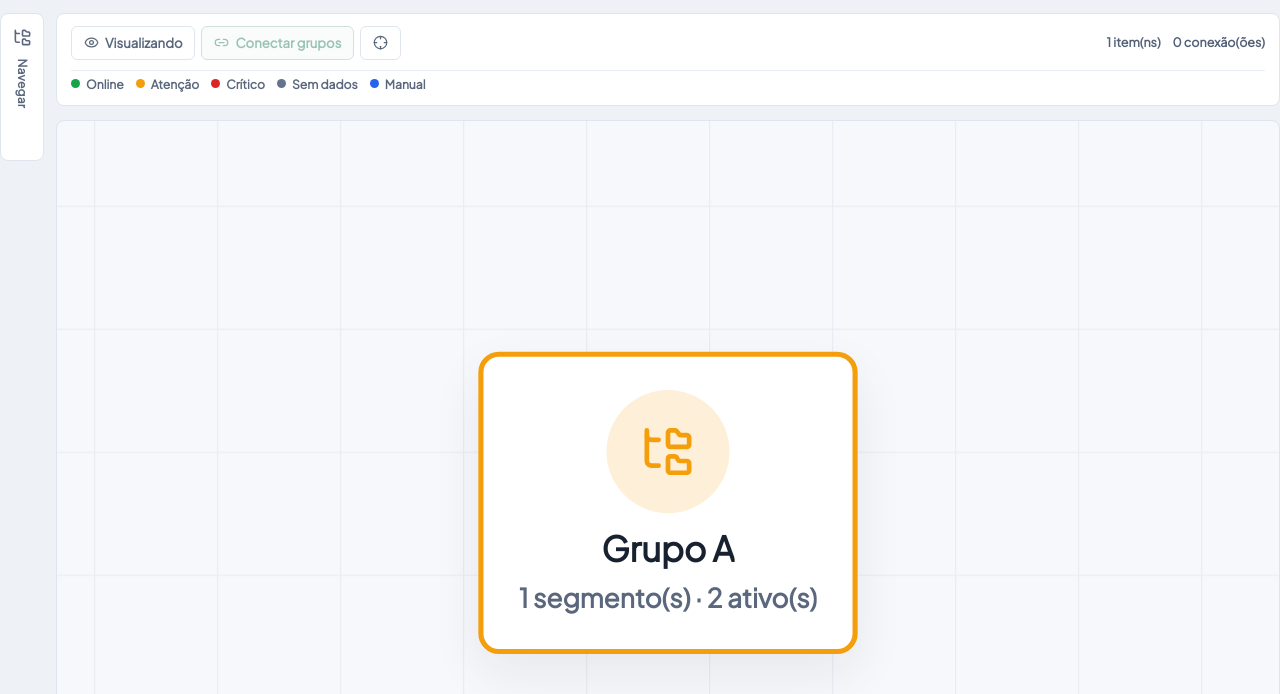
Scenario: InventoryNetworkTopologyView › cria e desenha linha entre itens automáticos usando somente IDs reais
Step 1. Press Enter in the button "Grupo A, ver grupo", box [478,352,858,654]
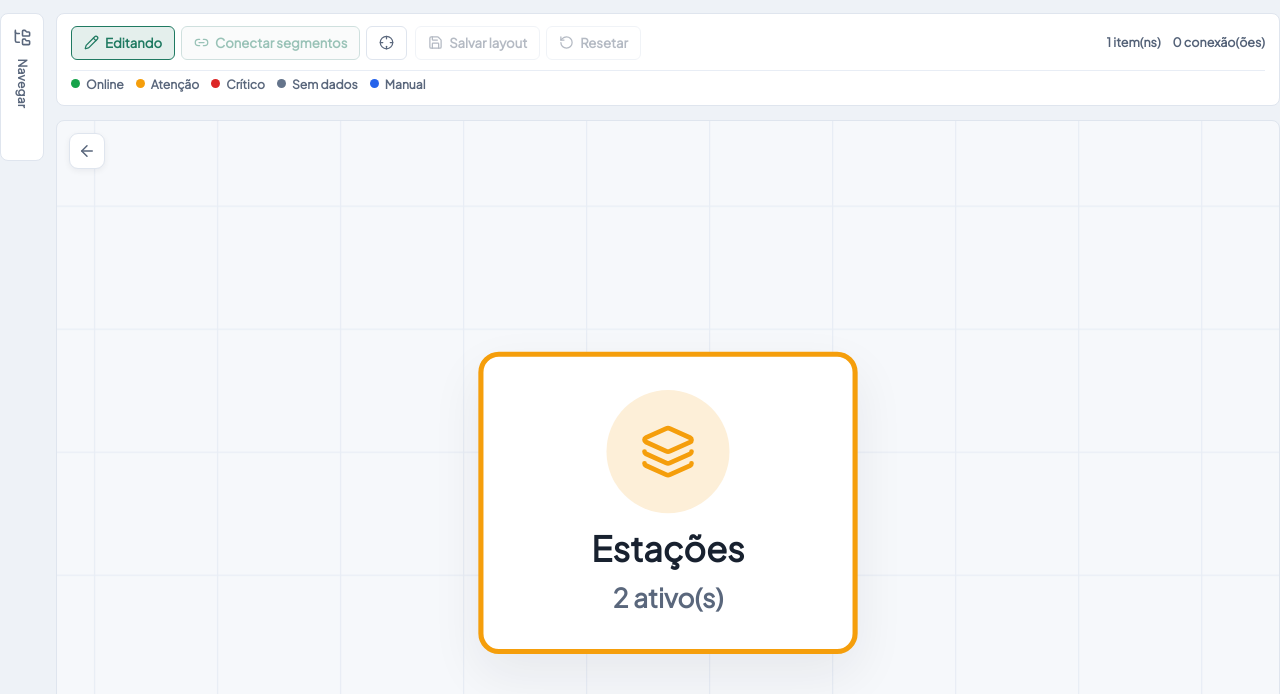
Step 2. Press Enter in the button "Estações, ver segmento", box [478,352,858,654]
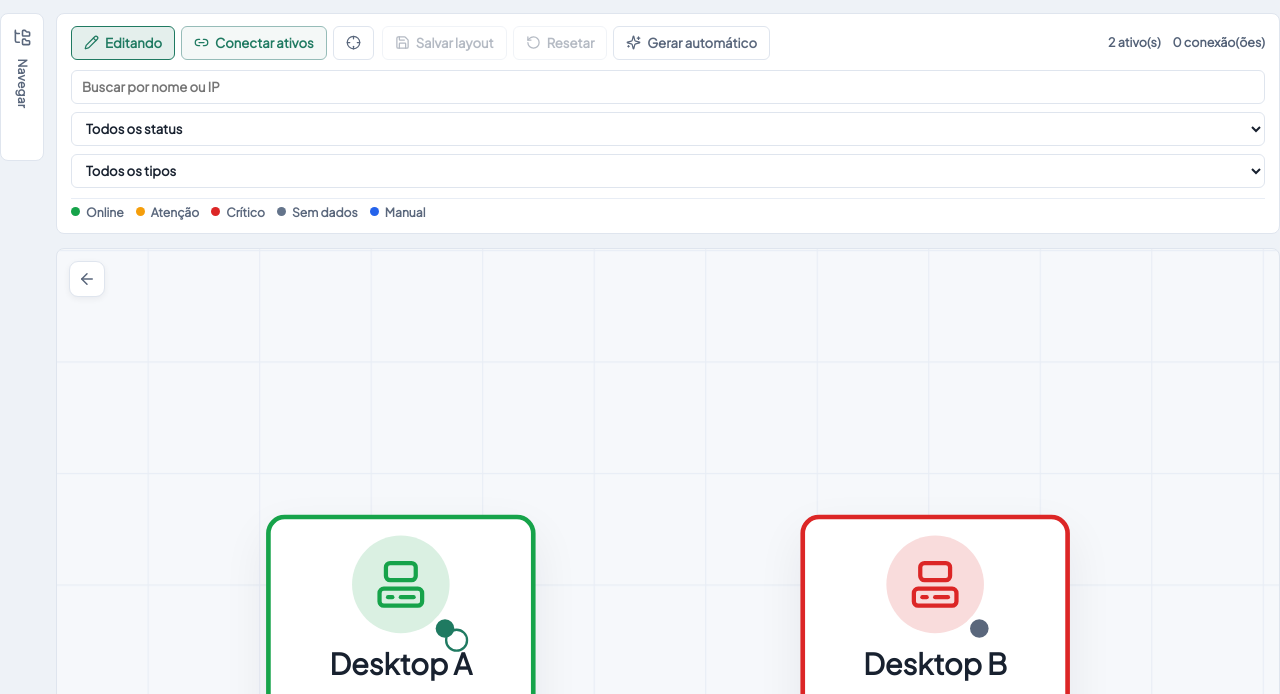
Step 3. Click the button "Conectar ativos" → (254, 43), box [181,26,327,60]
(page scrolled)
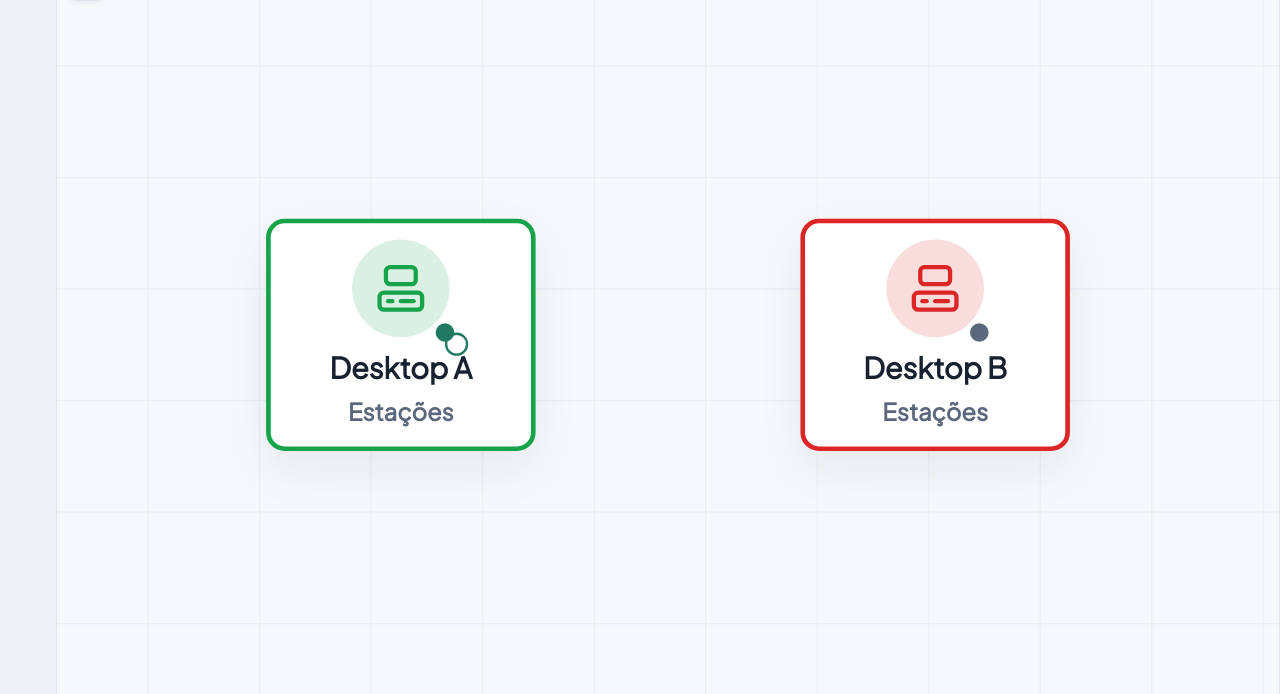
Step 4. Press Enter in the button "Desktop A, ver ativo", box [266,219,536,451]
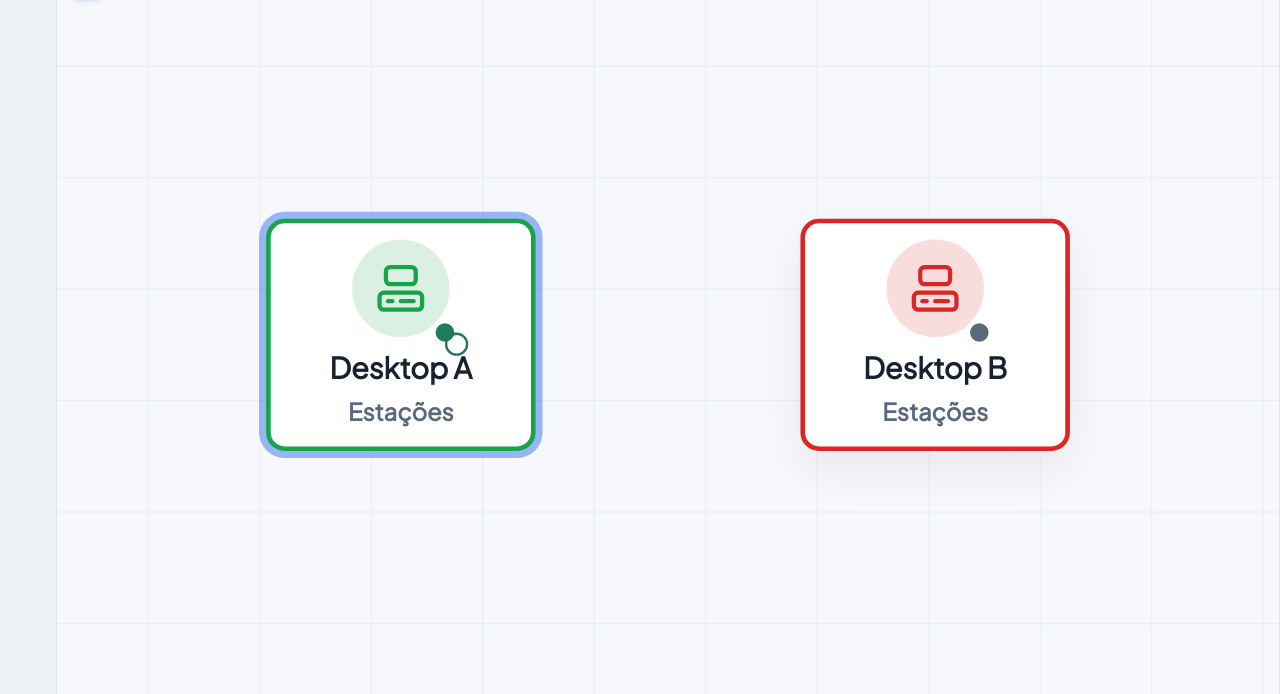
Step 5. Press Enter in the button "Desktop B, ver ativo", box [800,219,1070,451]
(page scrolled)
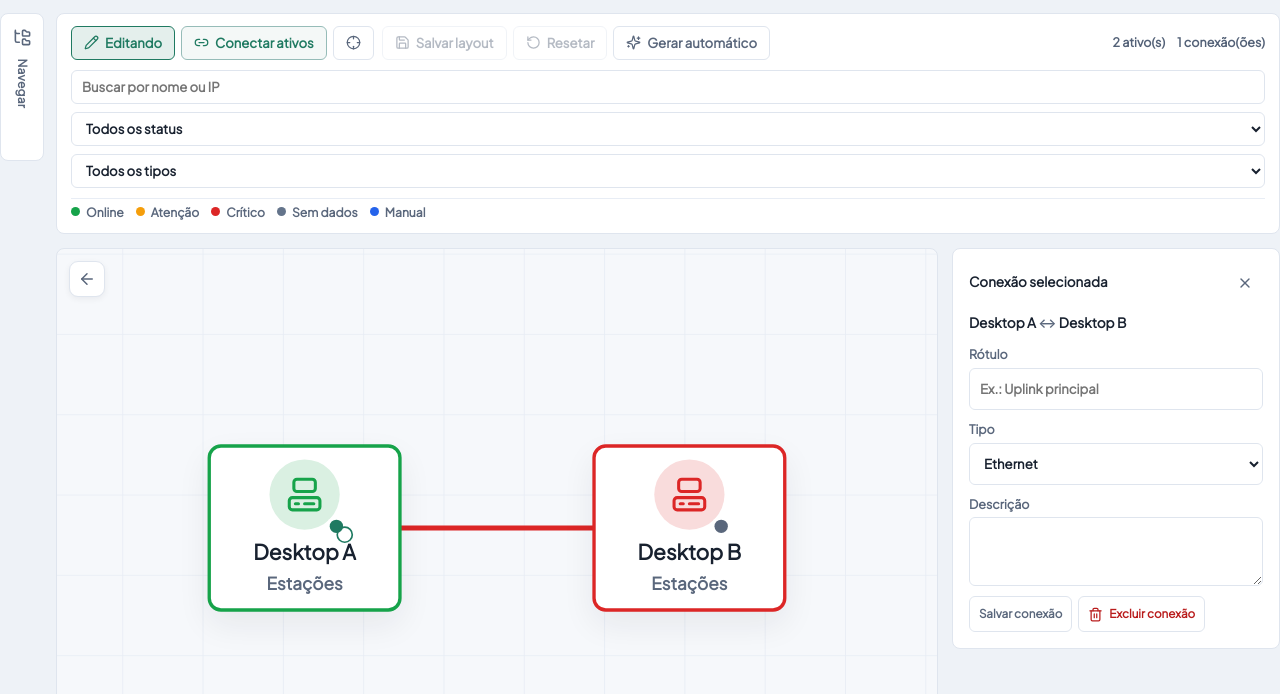
Check: the text "1 conexão(ões)" is shown, box [1177,33,1265,52]
